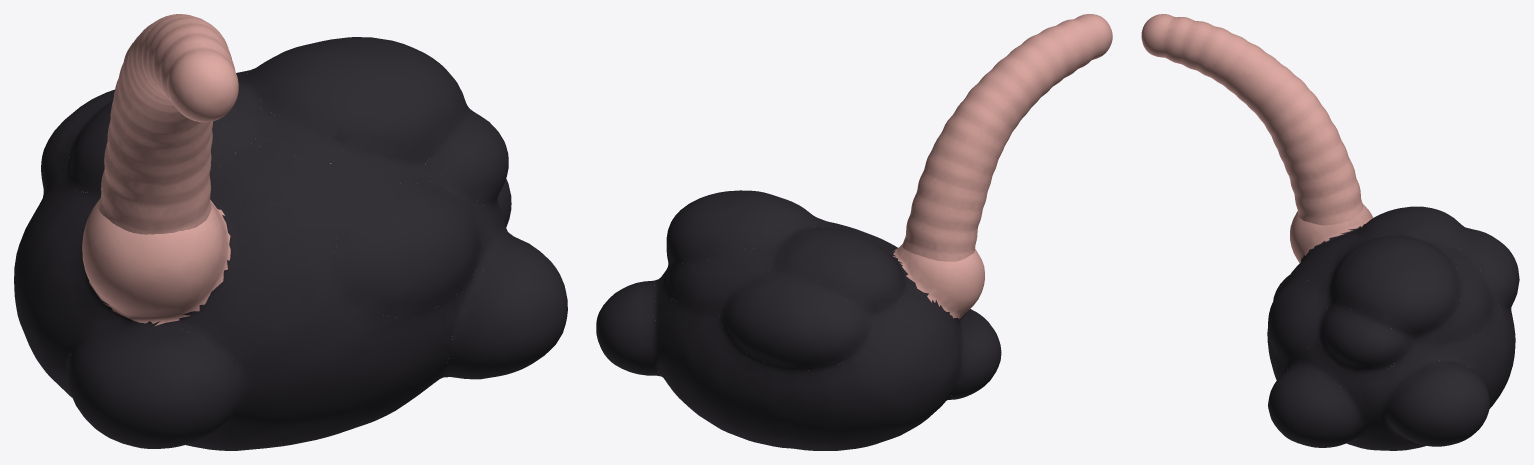
Rendered from vill-du-ha-kvittot.glb.
3 views of the same model, side by side, from view 1: azimuth 30°, elevation 25°; view 2: azimuth 150°, elevation 25°; view 3: azimuth 270°, elevation 25° (orthographic). The views are drawn at different scales.
Visible parts, largest first — view 1: corpo__r0, pescoco__r0; view 2: corpo__r0, pescoco__r0; view 3: corpo__r0, pescoco__r0.
Boxes of the visible parts, box(x1,y1,x2,y2) form: corpo__r0: box(14, 37, 567, 450); pescoco__r0: box(98, 14, 238, 234); corpo__r0: box(596, 190, 1001, 450); pescoco__r0: box(902, 14, 1112, 261); corpo__r0: box(1267, 204, 1519, 450); pescoco__r0: box(1141, 14, 1363, 225).
Bounding box in the file's own units: 1.73 × 1.7 × 1.7.
